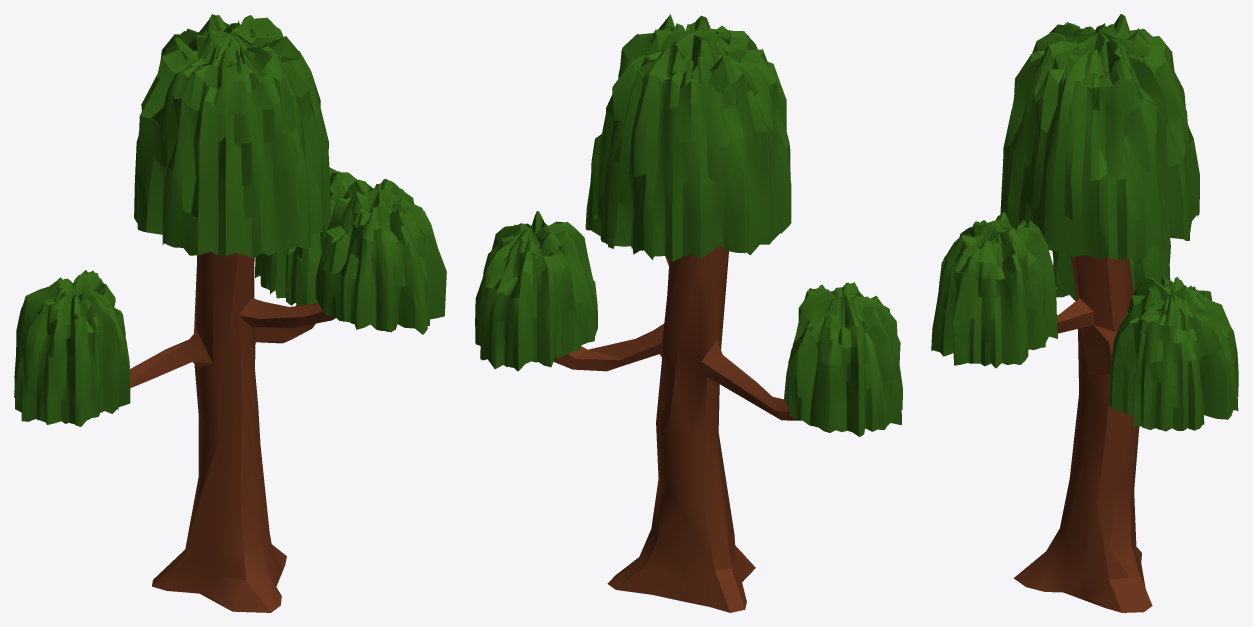
Rendered from Tree2.obj.
3 renders of one model, left to right at view 1: azimuth 30°, elevation 25°; view 2: azimuth 150°, elevation 25°; view 3: azimuth 270°, elevation 25°, orthographic.
Parts seen in each view (by area): view 1: Cylinder.006, Cylinder; view 2: Cylinder.006, Cylinder; view 3: Cylinder.006, Cylinder.
Boxes of the visible parts, x1=… form: Cylinder.006: x1=14, y1=14, x2=446, y2=426; Cylinder: x1=130, y1=252, x2=335, y2=612; Cylinder.006: x1=475, y1=14, x2=902, y2=436; Cylinder: x1=553, y1=59, x2=801, y2=612; Cylinder.006: x1=931, y1=14, x2=1238, y2=431; Cylinder: x1=1014, y1=255, x2=1152, y2=612.
Bounding box in the file's own units: 4.95 × 6.82 × 3.44.
